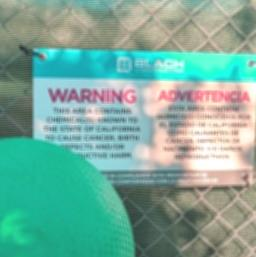algae: (0, 136, 135, 257)
